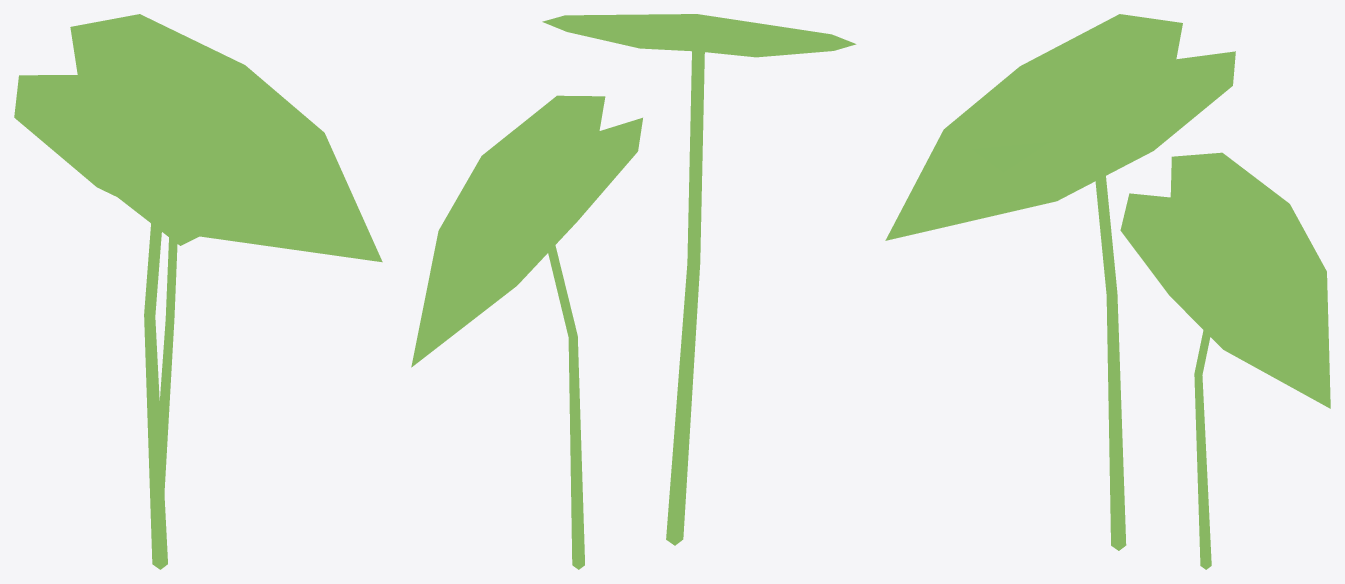
The model's file is Plant_d_OneS_06.fbx.
3 views of the same model, side by side, from view 1: azimuth 30°, elevation 25°; view 2: azimuth 150°, elevation 25°; view 3: azimuth 270°, elevation 25° (orthographic). The views are drawn at different scales.
Parts seen in each view (by area): view 1: Plant_d_OneS_06; view 2: Plant_d_OneS_06; view 3: Plant_d_OneS_06.
Boxes of the visible parts, bbox=[...] form: Plant_d_OneS_06: bbox=[14, 14, 382, 569]; Plant_d_OneS_06: bbox=[411, 14, 856, 569]; Plant_d_OneS_06: bbox=[885, 14, 1330, 569].
Size of the model in its own units: 0.5224 by 0.8162 by 0.6831.
